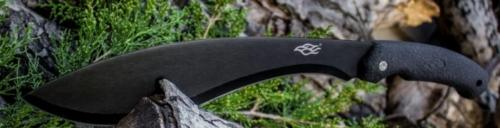MACHETTE: (18, 31, 500, 123)
